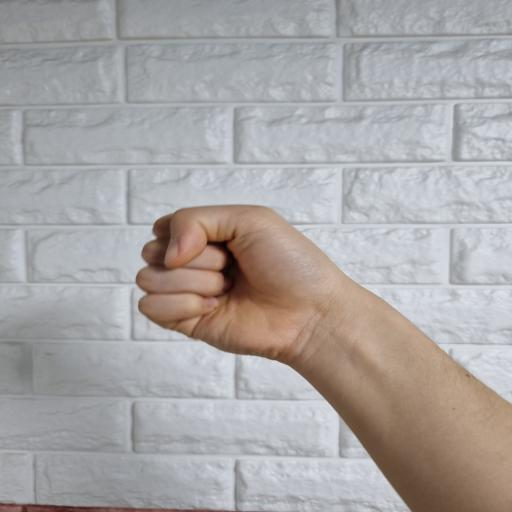Rock: (134, 204, 346, 363)
